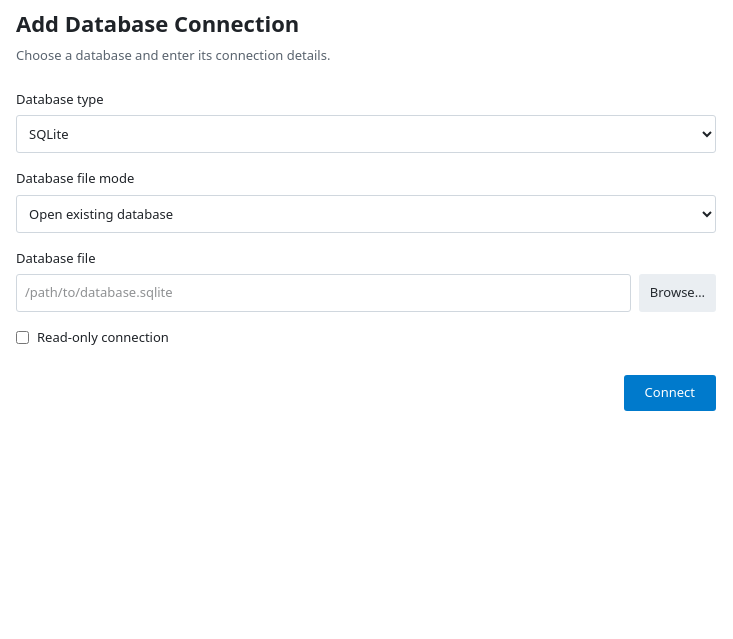
Test: offers a URL and separate secure token for libsql
Later steps or results of the test are not shown.
Select "libSQL" in the dropdown labelled "Database type" at (366, 134), box [16,115,716,153]
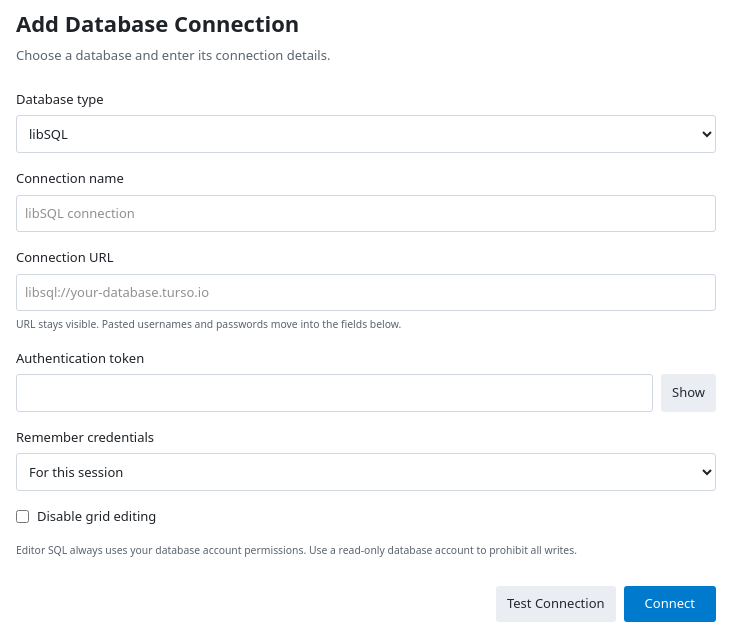
Type "libsql://demo.turso.io" into the field labelled "Connection URL" at (366, 292), box [16,274,716,311]
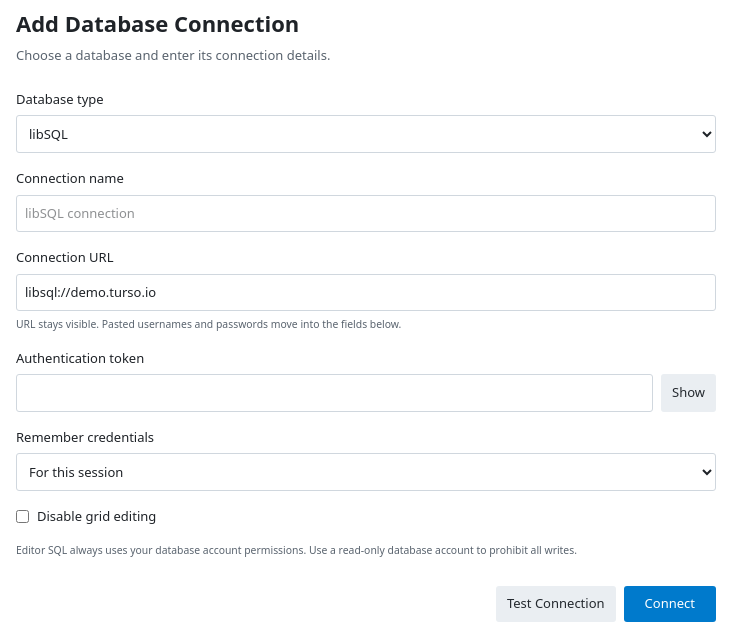
Result: the field labelled "Connection URL" shows its text at [16,274,716,311]
